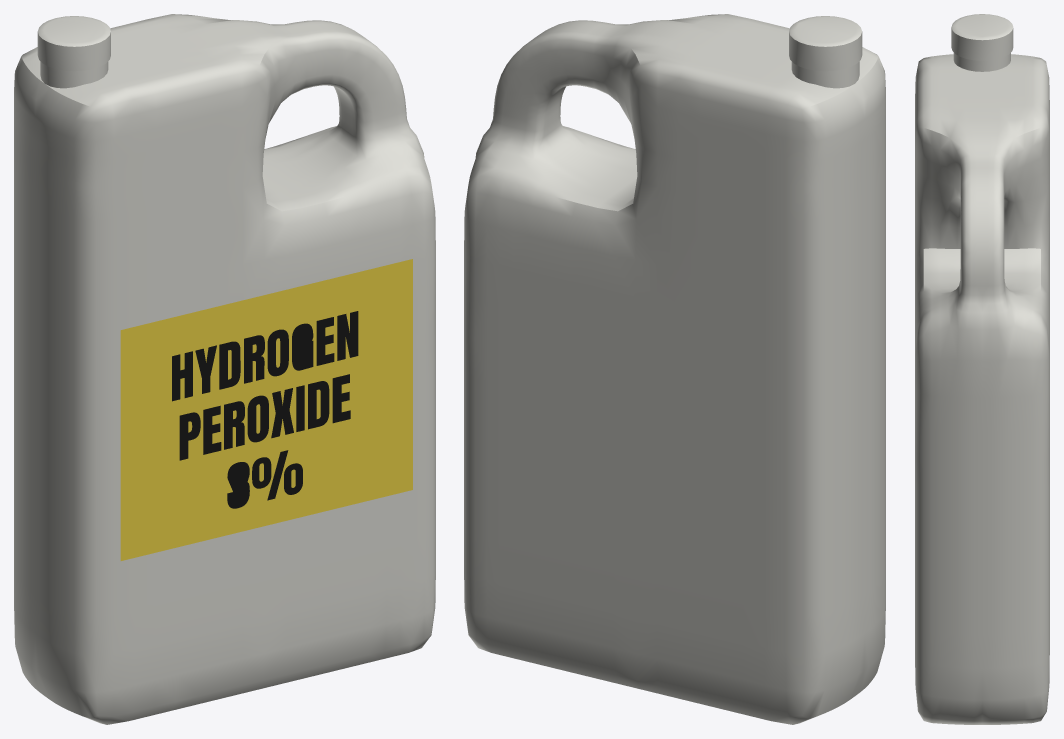
The model's file is HydrogenPeroxide.fbx.
The picture shows the model from 3 angles, left to right: view 1: azimuth 30°, elevation 25°; view 2: azimuth 150°, elevation 25°; view 3: azimuth 270°, elevation 25°; orthographic projection. The views are drawn at different scales.
Visible parts, largest first — view 1: MoText_1; view 2: MoText_1; view 3: MoText_1.
Part boxes in pixels (left/top/right/bottom): MoText_1: left=14, top=14, right=435, bottom=724; MoText_1: left=464, top=14, right=885, bottom=724; MoText_1: left=915, top=14, right=1049, bottom=724.
Size of the model in its own units: 227 by 383 by 82.91.
